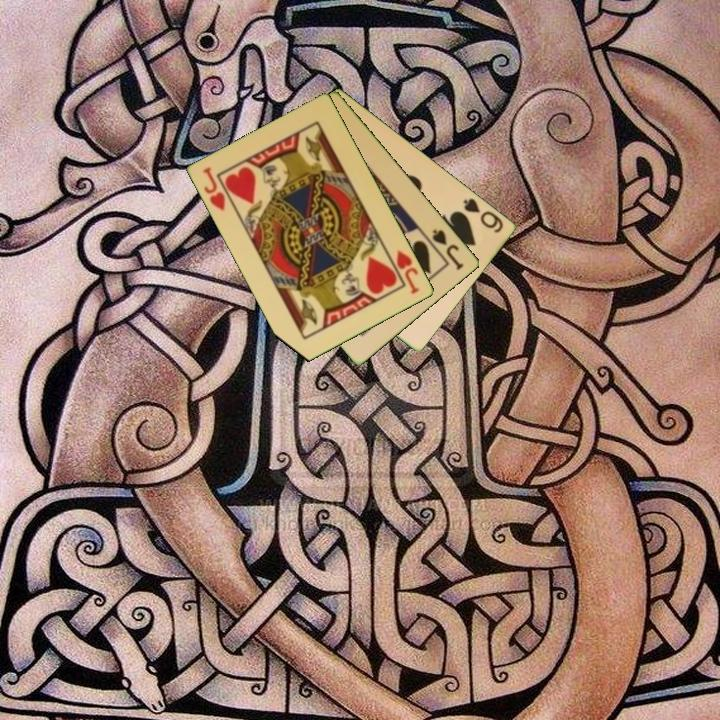6s: (460, 195, 506, 236)
Jh: (393, 246, 423, 297), (200, 163, 229, 214)
Js: (429, 225, 467, 273)
